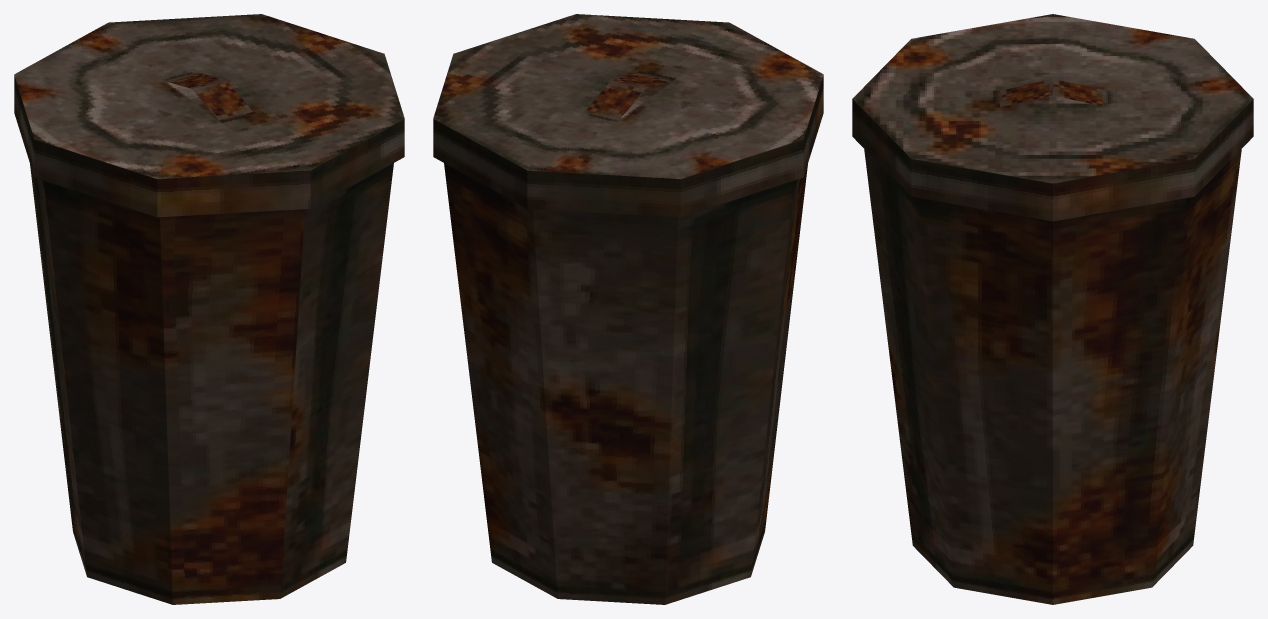
Rendered from retro_rusty_trash_can_ps1.glb.
3 renders of one model, left to right at view 1: azimuth 30°, elevation 25°; view 2: azimuth 150°, elevation 25°; view 3: azimuth 270°, elevation 25°, orthographic.
Parts seen in each view (by area): view 1: Object_2; view 2: Object_2; view 3: Object_2.
Boxes of the visible parts, box(x1,y1,x2,y2) form: Object_2: box(14, 14, 404, 604); Object_2: box(433, 14, 823, 604); Object_2: box(852, 14, 1253, 604).
Size of the model in its own units: 0.8633 by 1.09 by 0.8633.
Materials: 1 (1 with a texture image).
